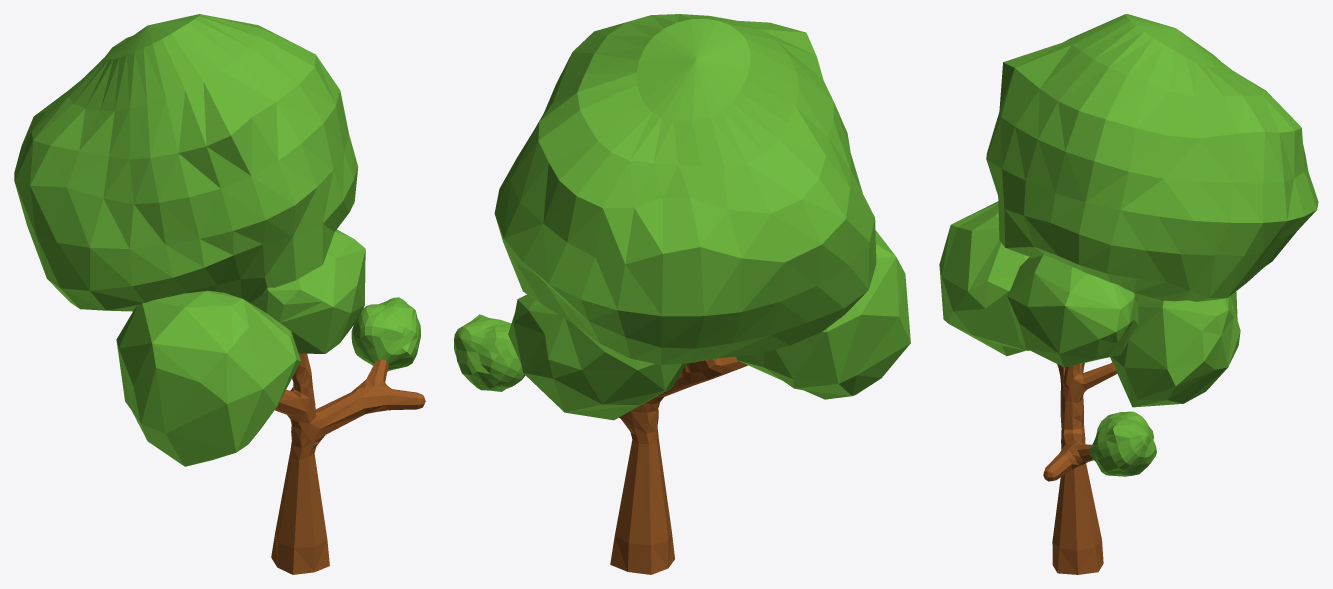
The model's file is Big tree.fbx.
3 views of the same model, side by side, from view 1: azimuth 30°, elevation 25°; view 2: azimuth 150°, elevation 25°; view 3: azimuth 270°, elevation 25° (orthographic). The views are drawn at different scales.
Visible parts, largest first — view 1: 217-_UniqueID_871, 216-_UniqueID_716; view 2: 217-_UniqueID_871, 216-_UniqueID_716; view 3: 217-_UniqueID_871, 216-_UniqueID_716.
Boxes of the visible parts, x1,y1,x2,y2 form: 217-_UniqueID_871: [14, 14, 420, 466]; 216-_UniqueID_716: [271, 353, 425, 574]; 217-_UniqueID_871: [454, 14, 910, 420]; 216-_UniqueID_716: [610, 356, 747, 574]; 217-_UniqueID_871: [939, 14, 1318, 476]; 216-_UniqueID_716: [1043, 362, 1117, 574].
Bounding box in the file's own units: 130 × 180 × 122.
